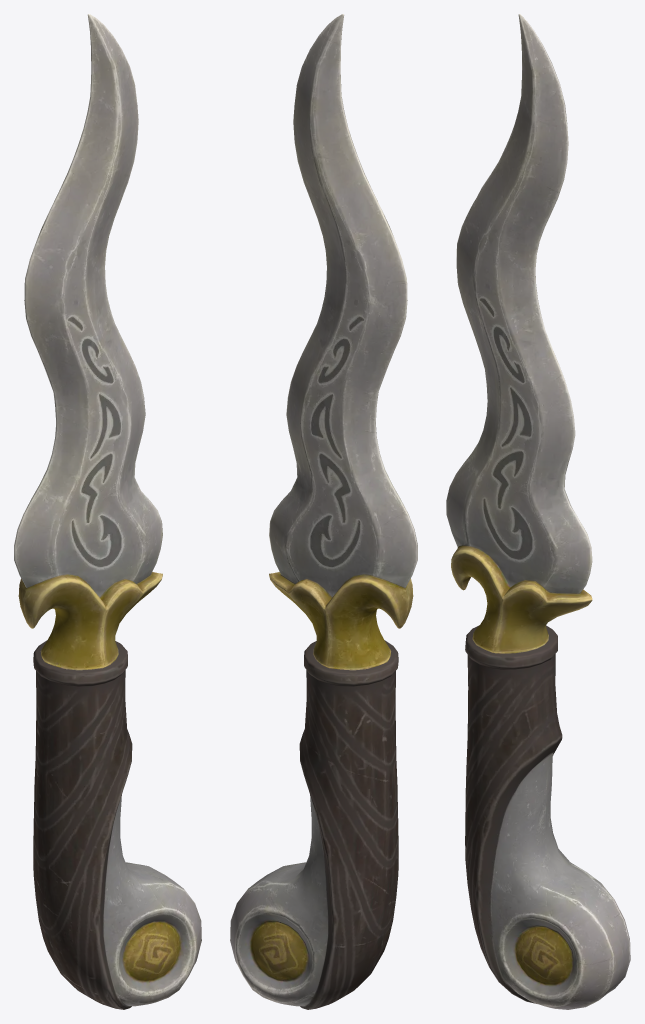
3 views of the same model, side by side, from view 1: azimuth 30°, elevation 25°; view 2: azimuth 150°, elevation 25°; view 3: azimuth 330°, elevation 25° (orthographic).
Visible parts, largest first — view 1: SM_Dagger_Keris_1H_01_LOD0; view 2: SM_Dagger_Keris_1H_01_LOD0; view 3: SM_Dagger_Keris_1H_01_LOD0.
Boxes of the visible parts, <box> form: SM_Dagger_Keris_1H_01_LOD0: <box>14,14,201,1009</box>; SM_Dagger_Keris_1H_01_LOD0: <box>230,14,417,1009</box>; SM_Dagger_Keris_1H_01_LOD0: <box>446,14,630,1009</box>.
Bounding box in the file's own units: 0.1059 × 0.5636 × 0.0545.
1 material, 1 textured.
